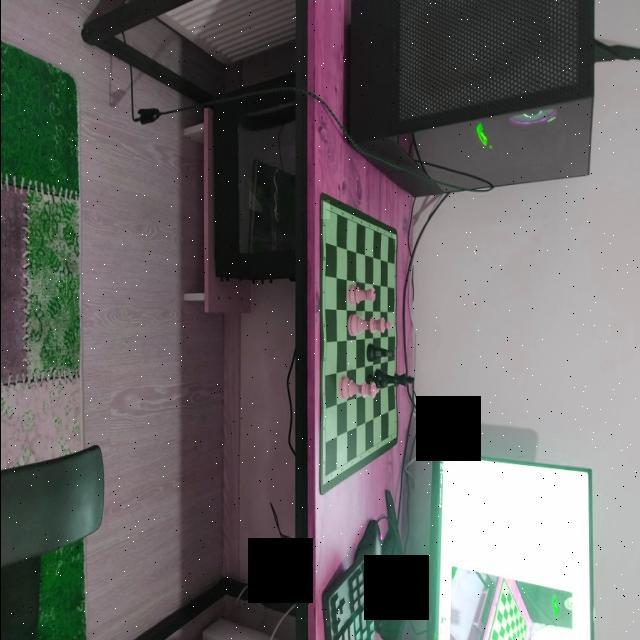chess-table-corners: (320, 200, 329, 219), (320, 467, 328, 486), (392, 234, 396, 245)
